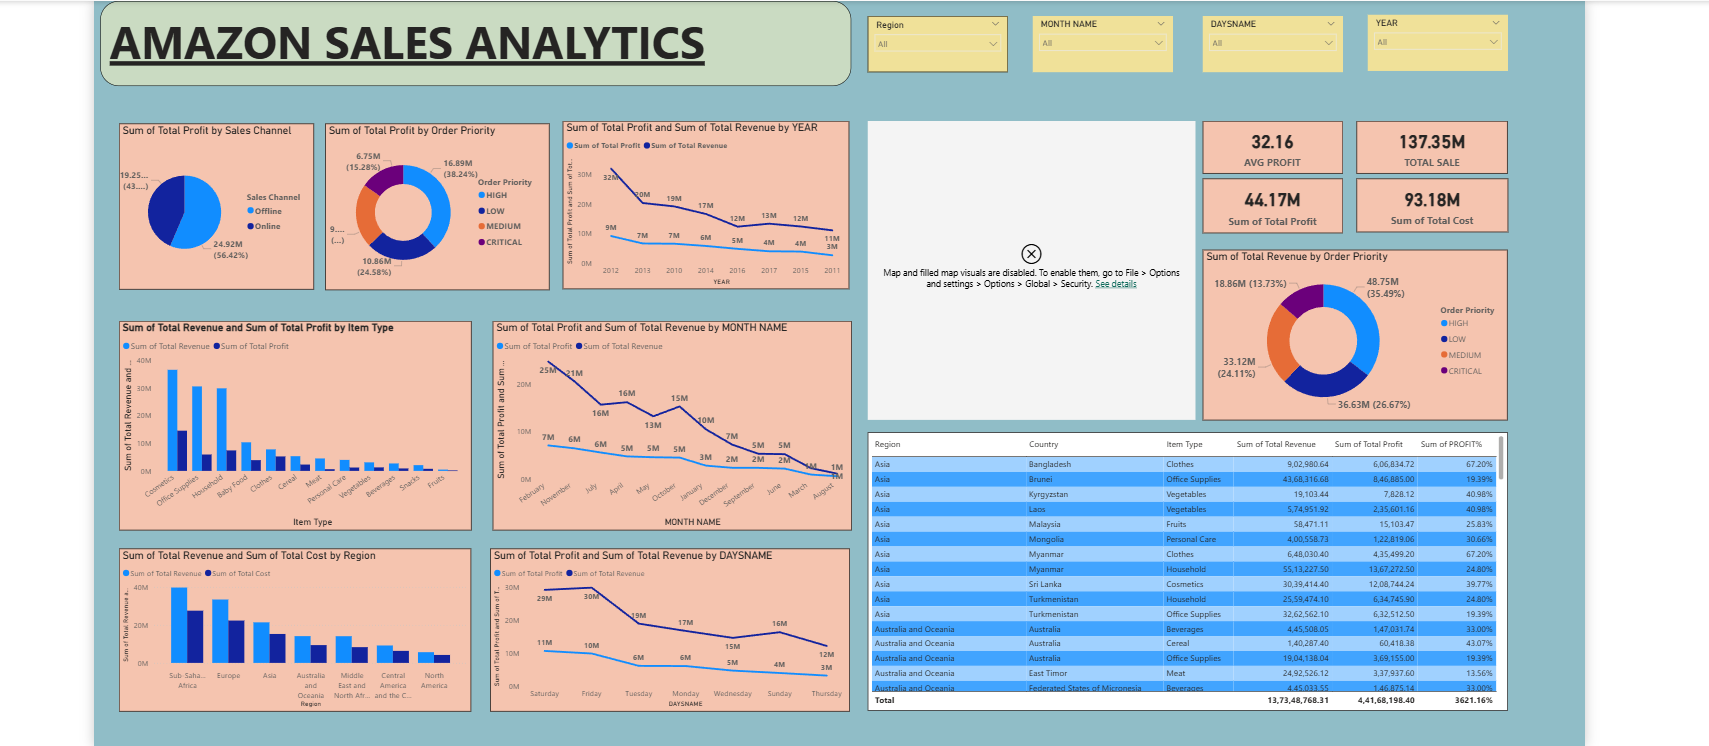

What the dashboard file says about the page in this screenshot:
{"tool":"powerbi","page":{"name":"Page 1","canvas":[2400,1200],"ordinal":0},"visuals":[{"type":"textbox","box":[10,0,1208,136.8],"z":0},{"type":"pieChart","fields":{"Category":["Amazon Sales data-set.Sales Channel"],"Y":["Sum(Amazon Sales data-set.Total Profit)"]},"box":[40,196.9,313.7,267],"z":1000},{"type":"donutChart","fields":{"Category":["Amazon Sales data-set.Order Priority"],"Y":["Sum(Amazon Sales data-set.Total Profit)"]},"box":[372.2,197.4,360.9,267.9],"z":2000},{"type":"clusteredColumnChart","fields":{"Y":["Sum(Amazon Sales data-set.Total Revenue)","Sum(Amazon Sales data-set.Total Profit)"],"Category":["Amazon Sales data-set.Item Type"]},"box":[40,513.9,567.3,337],"z":3000},{"type":"clusteredColumnChart","fields":{"Y":["Sum(Amazon Sales data-set.Total Revenue)","Sum(Amazon Sales data-set.Total Cost)"],"Category":["Amazon Sales data-set.Region"]},"box":[39.5,879.7,566.7,262.2],"z":4000},{"type":"lineChart","fields":{"Category":["Amazon Sales data-set.MONTH NAME"],"Y":["Sum(Amazon Sales data-set.Total Profit)","Sum(Amazon Sales data-set.Total Revenue)"]},"box":[640.7,513.9,577.3,337],"z":5000},{"type":"lineChart","fields":{"Y":["Sum(Amazon Sales data-set.Total Profit)","Sum(Amazon Sales data-set.Total Revenue)"],"Category":["Amazon Sales data-set.DAYSNAME"]},"box":[637.2,879.7,578,262.2],"z":6000},{"type":"lineChart","fields":{"Y":["Sum(Amazon Sales data-set.Total Profit)","Sum(Amazon Sales data-set.Total Revenue)"],"Category":["Amazon Sales data-set.YEAR"]},"box":[754.2,193.6,460.5,270.3],"z":7000},{"type":"donutChart","fields":{"Y":["Sum(Amazon Sales data-set.Total Revenue)"],"Category":["Amazon Sales data-set.Order Priority"]},"box":[1783.7,400,490.7,274.4],"z":8000},{"type":"map","fields":{"Category":["Amazon Sales data-set.Country"]},"box":[1244.6,193,526.8,480.6],"z":9000},{"type":"tableEx","fields":{"Values":["Amazon Sales data-set.Region","Amazon Sales data-set.Country","Amazon Sales data-set.Item Type","Sum(Amazon Sales data-set.Total Revenue)","Sum(Amazon Sales data-set.Total Profit)","Sum(Amazon Sales data-set.PROFIT%)"]},"box":[1244.6,693.7,1029.5,448.4],"z":10000},{"type":"card","fields":{"Values":["Sum(Amazon Sales data-set.Total Profit)"]},"box":[1783.7,286,225.6,88.4],"z":11000},{"type":"card","fields":{"Values":["Sum(Amazon Sales data-set.Total Cost)"]},"box":[2030.2,286,244.2,86],"z":12000},{"type":"card","fields":{"Values":["Amazon Sales data-set.AVG PROFIT"]},"box":[1783.5,193,225.2,84.5],"z":13000},{"type":"card","fields":{"Values":["Amazon Sales data-set.TOTAL SALE"]},"box":[2030.8,193,243.3,84.5],"z":14000},{"type":"slicer","fields":{"Values":["Amazon Sales data-set.DAYSNAME"]},"box":[1783.7,23.3,225.6,90.7],"z":15000},{"type":"slicer","fields":{"Values":["Amazon Sales data-set.MONTH NAME"]},"box":[1509.3,23.3,225.6,90.7],"z":16000},{"type":"slicer","fields":{"Values":["Amazon Sales data-set.Region"]},"box":[1244.2,23.3,225.6,90.7],"z":17000},{"type":"slicer","fields":{"Values":["Amazon Sales data-set.YEAR"]},"box":[2049.8,22.6,225.6,90.2],"z":18000}]}

Visuals, with their boxes on the page's 2400x1200 design canvas (x1, y1, x2, y2). These are canvas units, not pixel positions in the 1709x746 screenshot, which may show the page scaled, cropped or inside an application window:
textbox: region(10, 0, 1218, 137)
pieChart - Amazon Sales data-set.Sales Channel x Sum(Amazon Sales data-set.Total Profit): region(40, 197, 354, 464)
donutChart - Amazon Sales data-set.Order Priority x Sum(Amazon Sales data-set.Total Profit): region(372, 197, 733, 465)
clusteredColumnChart - Sum(Amazon Sales data-set.Total Revenue) x Sum(Amazon Sales data-set.Total Profit): region(40, 514, 607, 851)
clusteredColumnChart - Sum(Amazon Sales data-set.Total Revenue) x Sum(Amazon Sales data-set.Total Cost): region(40, 880, 606, 1142)
lineChart - Amazon Sales data-set.MONTH NAME x Sum(Amazon Sales data-set.Total Profit): region(641, 514, 1218, 851)
lineChart - Sum(Amazon Sales data-set.Total Profit) x Sum(Amazon Sales data-set.Total Revenue): region(637, 880, 1215, 1142)
lineChart - Sum(Amazon Sales data-set.Total Profit) x Sum(Amazon Sales data-set.Total Revenue): region(754, 194, 1215, 464)
donutChart - Sum(Amazon Sales data-set.Total Revenue) x Amazon Sales data-set.Order Priority: region(1784, 400, 2274, 674)
map - Amazon Sales data-set.Country: region(1245, 193, 1771, 674)
tableEx - Amazon Sales data-set.Region x Amazon Sales data-set.Country: region(1245, 694, 2274, 1142)
card - Sum(Amazon Sales data-set.Total Profit): region(1784, 286, 2009, 374)
card - Sum(Amazon Sales data-set.Total Cost): region(2030, 286, 2274, 372)
card - Amazon Sales data-set.AVG PROFIT: region(1784, 193, 2009, 278)
card - Amazon Sales data-set.TOTAL SALE: region(2031, 193, 2274, 278)
slicer - Amazon Sales data-set.DAYSNAME: region(1784, 23, 2009, 114)
slicer - Amazon Sales data-set.MONTH NAME: region(1509, 23, 1735, 114)
slicer - Amazon Sales data-set.Region: region(1244, 23, 1470, 114)
slicer - Amazon Sales data-set.YEAR: region(2050, 23, 2275, 113)
